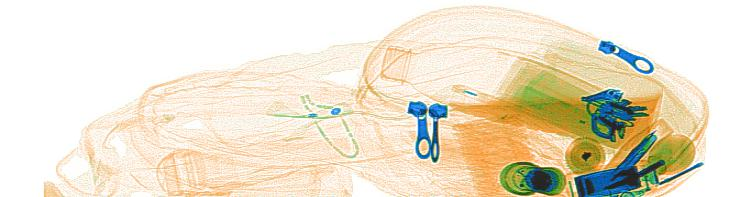battery: (522, 166, 559, 192)
